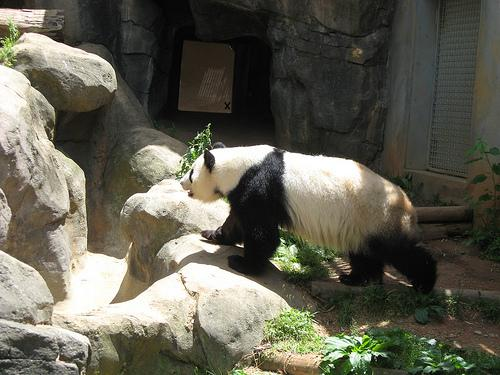panda: (181, 143, 436, 292)
